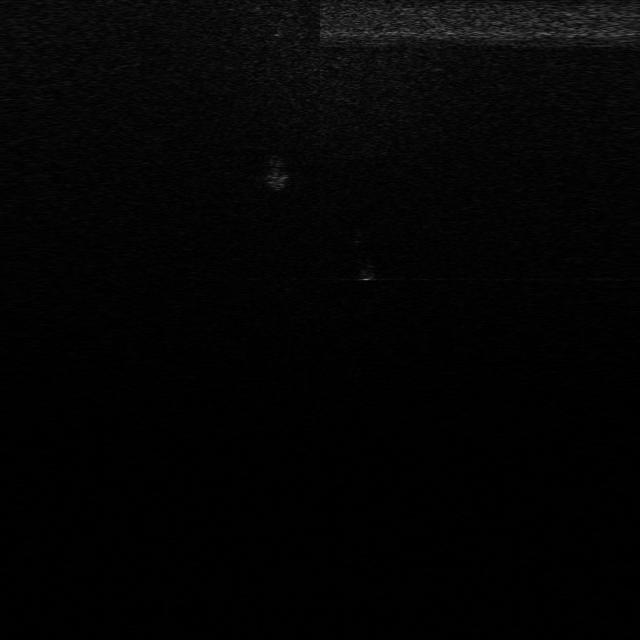circle cage: (253, 151, 294, 193)
tyre: (330, 225, 396, 288)
